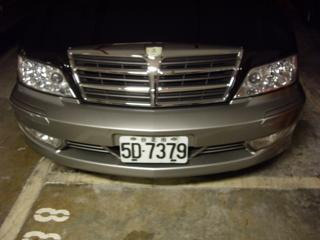plate: (117, 133, 191, 167)
